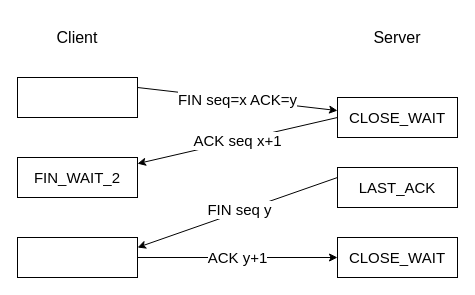
Image size: 475x295. Some labels were removed from this diagram. The shapes that lost their labels are listed below. From the top down, each one's centre as x and y in pixels, then its label:
At point (77, 97): "FIN_WAIT_1".
At point (77, 257): "TIME_WAIT".
